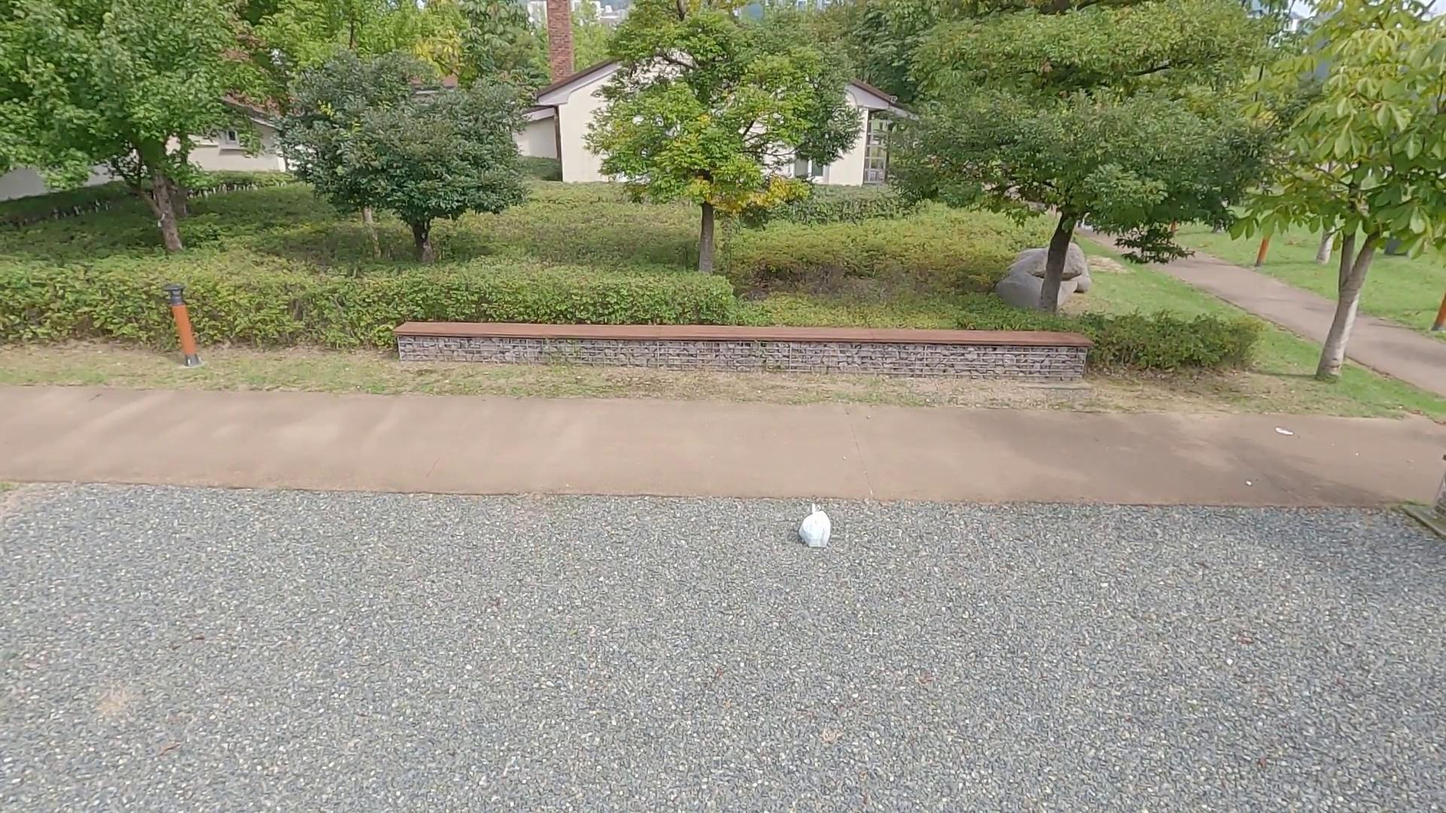trash: (791, 505, 836, 550)
